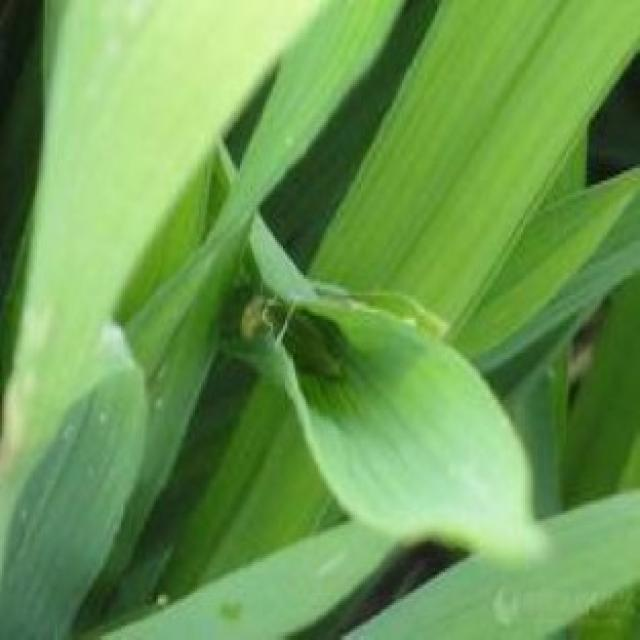rice leaf roller: (225, 286, 303, 368)
